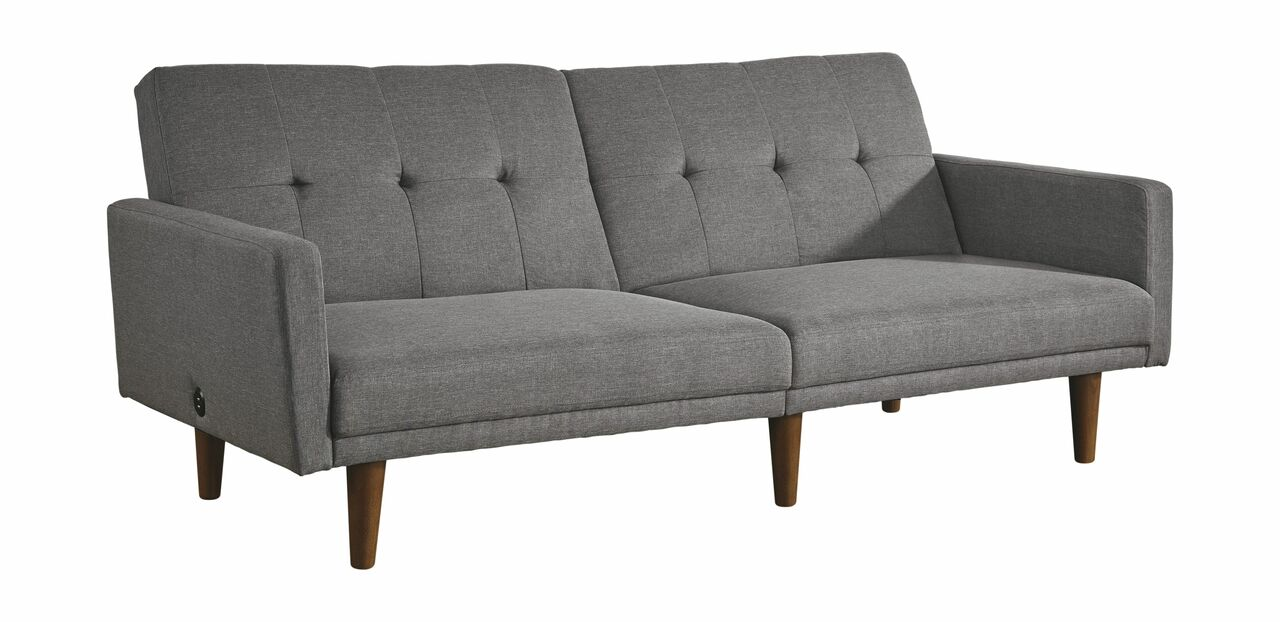sova: (108, 56, 1176, 466)
